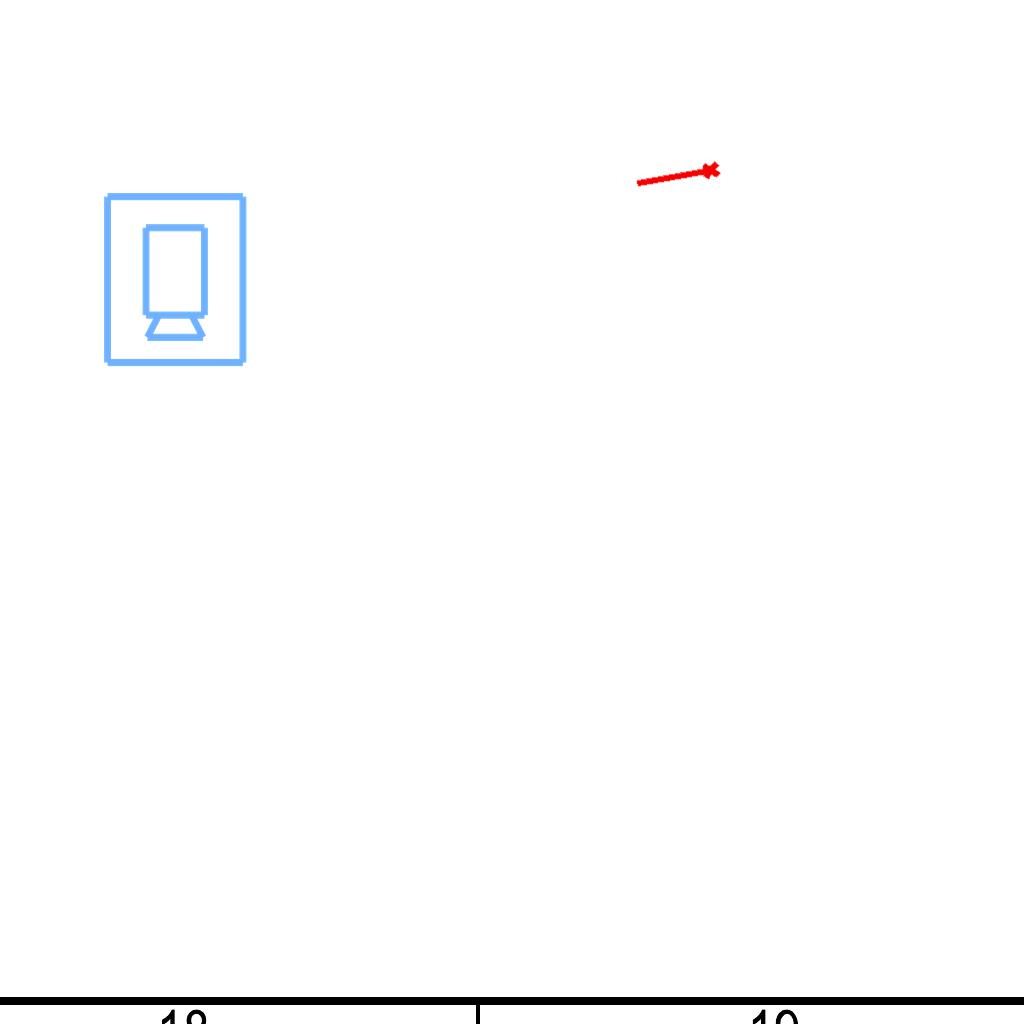ASR_Ansaugoeffnung: (632, 158, 724, 197)
KFO_Kamera_mit_Festobjektiv: (97, 188, 251, 370)
